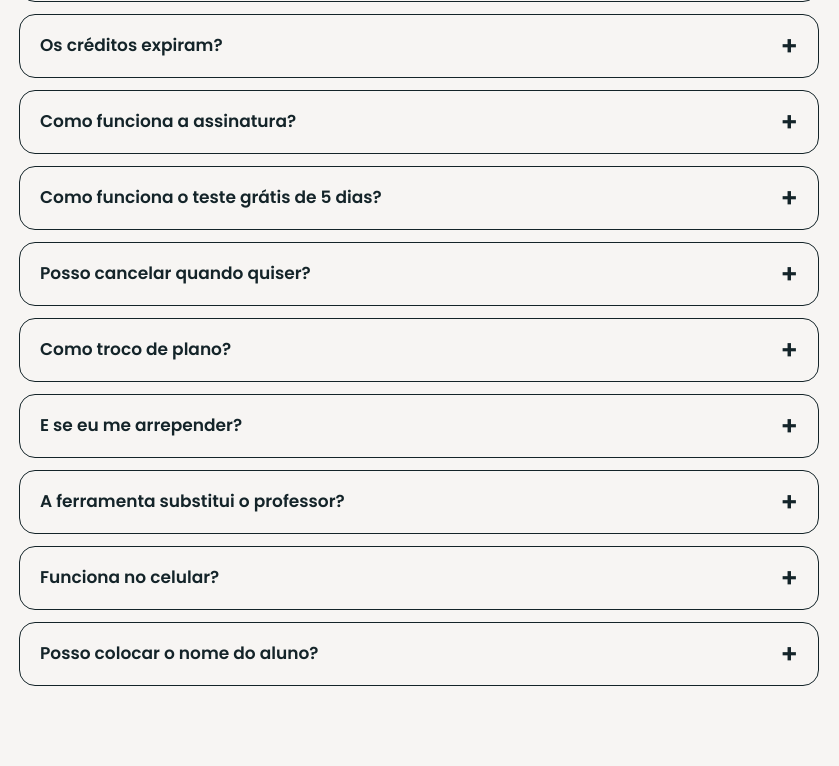
FaqSection (limits and data) › says the tool never replaces the teacher
(page scrolled)
Step 1. Click the button "A ferramenta substitui o professor? +" → [192, 501], box [20,471,818,533]
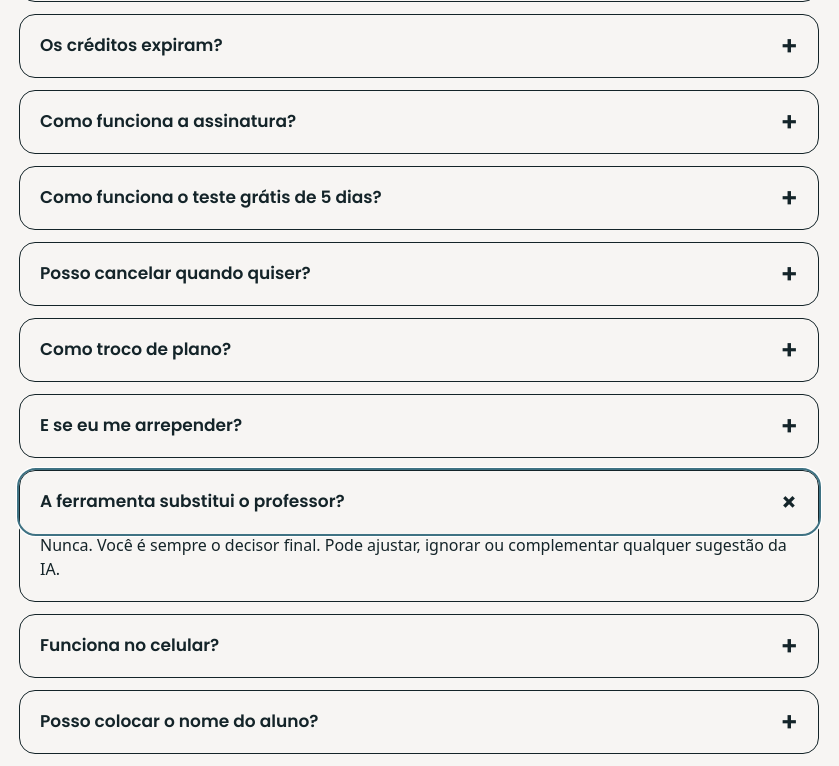
Result: the text "decisor final" is shown at [40,534,787,580]
